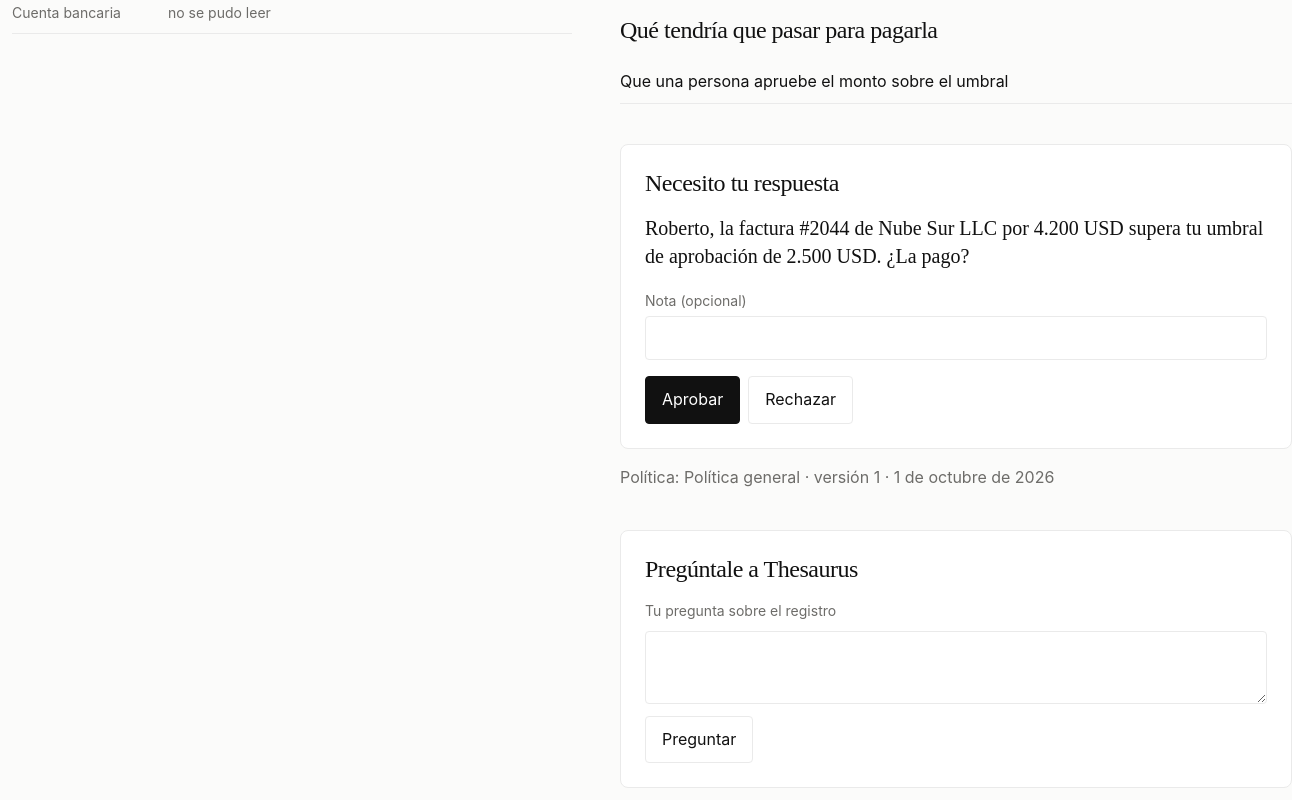
Test: ESCALAR shows the stored question above Aprobar and Rechazar; Aprobar posts the shown seq, then the new entry appears (AC-65, R-55)
(page scrolled)
Expected: the button "Rechazar" is shown, x1=748 y1=376 x2=853 y2=424
Click the button "Aprobar" at {"x": 693, "y": 400}, box x1=645 y1=376 x2=740 y2=424
(page scrolled)
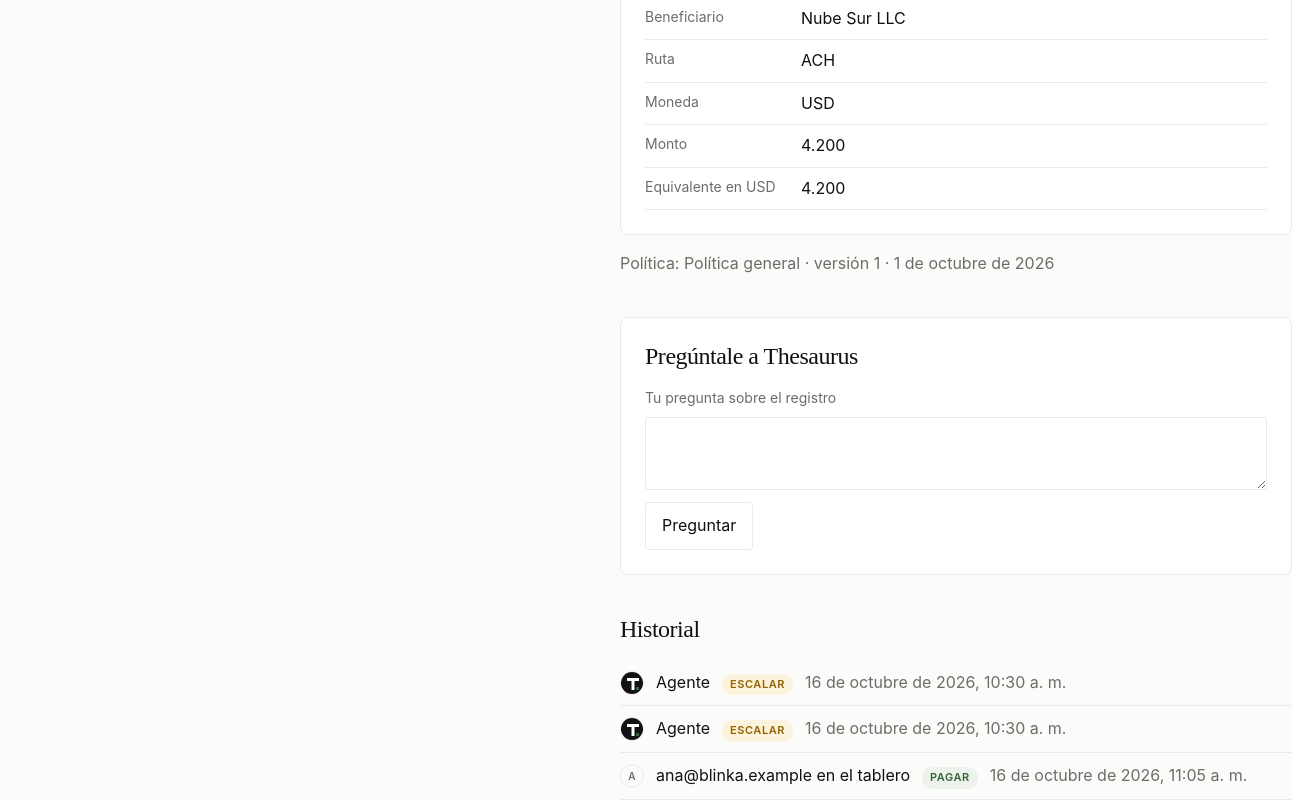
Expected: the button "Aprobar" is gone
